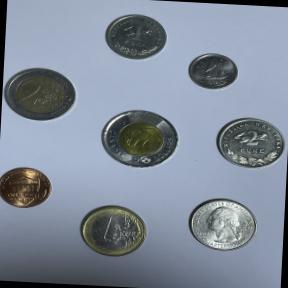coin: (94, 104, 183, 174), (208, 110, 288, 176), (182, 193, 264, 257), (1, 62, 80, 128), (76, 202, 152, 260), (0, 163, 56, 213), (184, 49, 242, 96)
